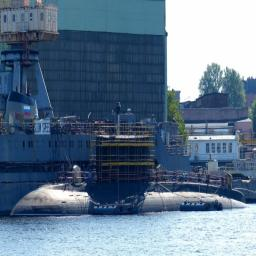submarine: (12, 168, 250, 208)
